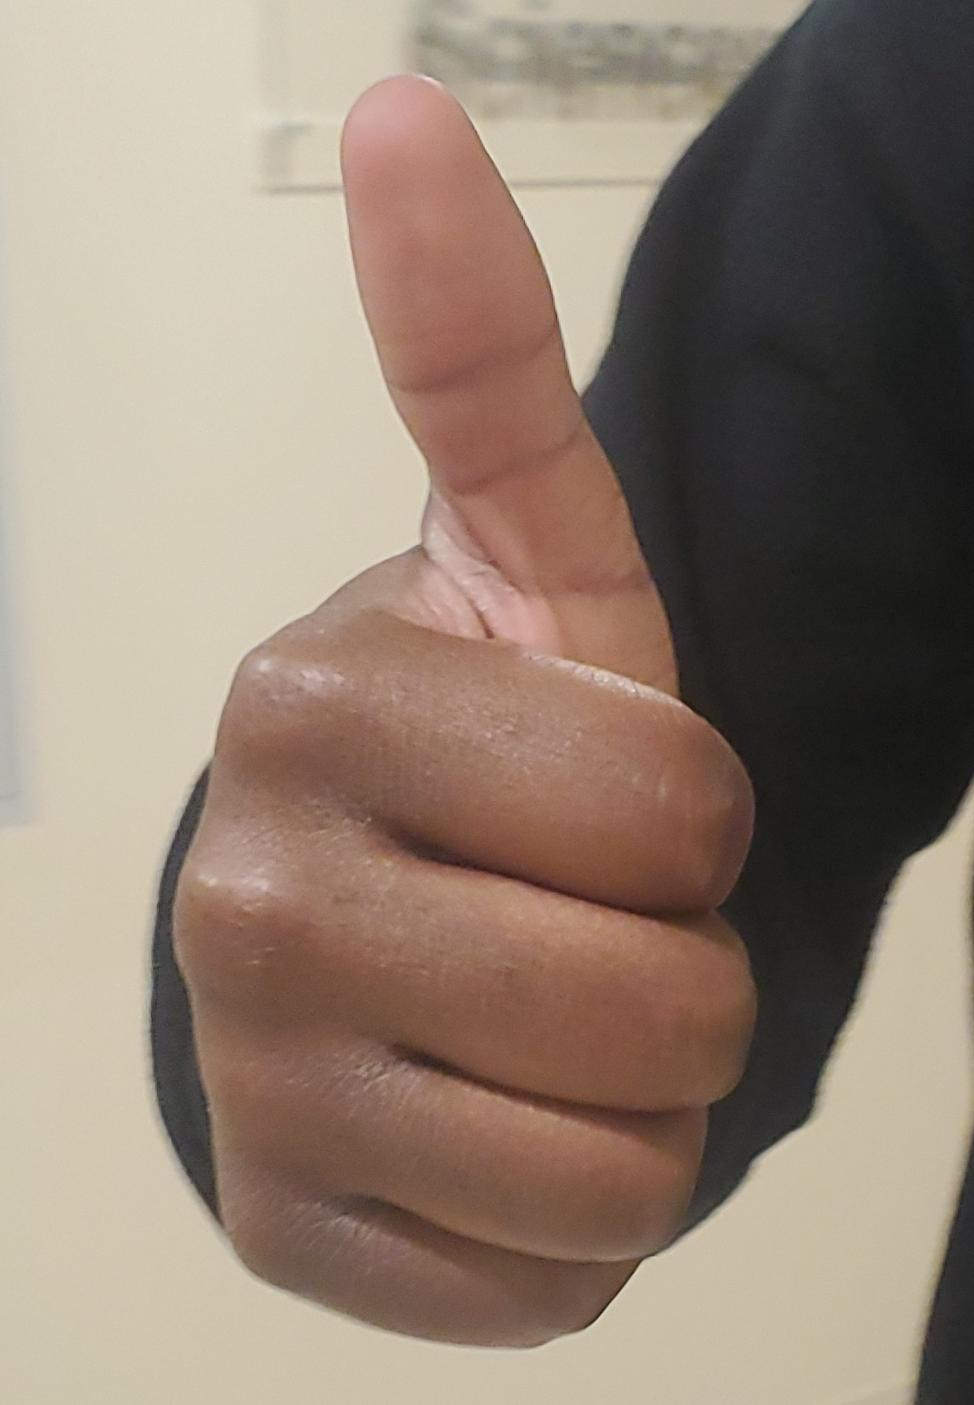up: (0, 1, 974, 1405)
